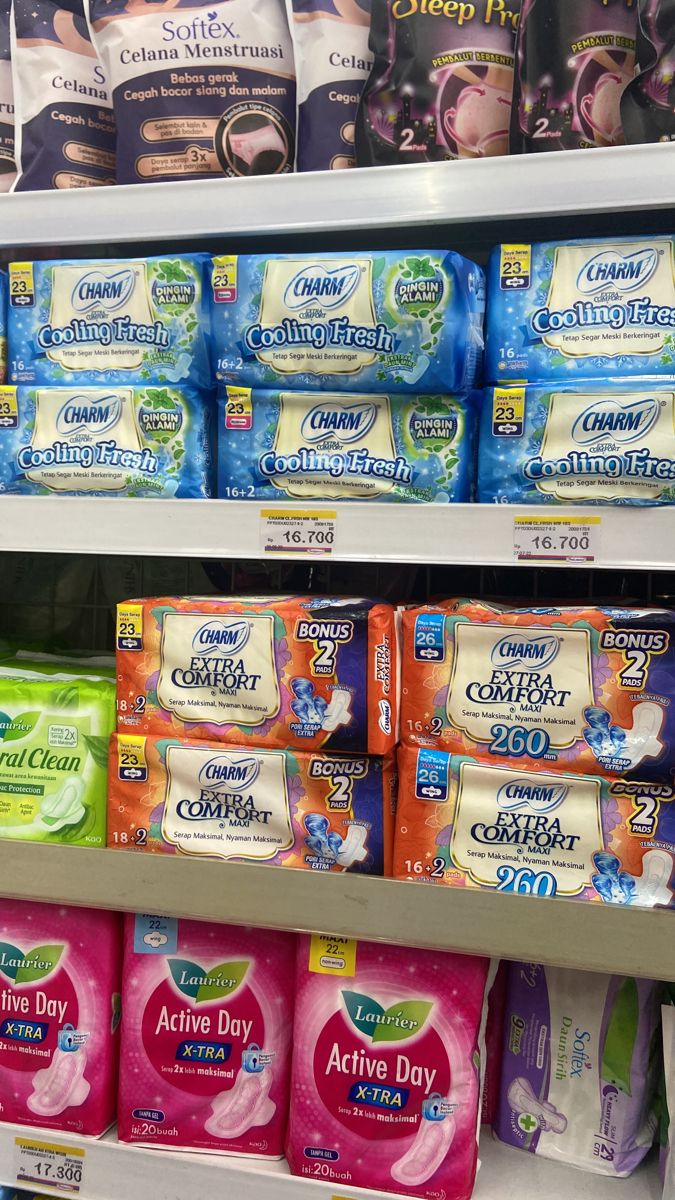Active Day: (285, 923, 483, 1197)
Cooling Fresh: (199, 246, 484, 401)
Extra Comfort: (102, 571, 337, 757)
